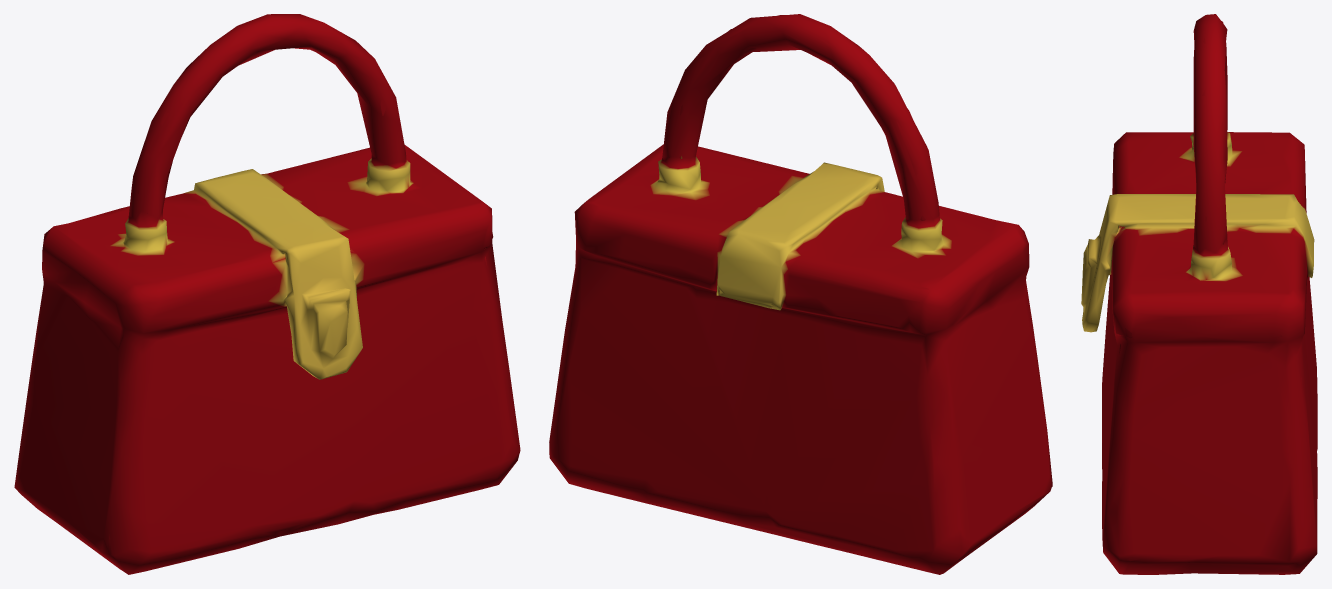
The model's file is gen3d-purse-lod0.glb.
3 renders of one model, left to right at view 1: azimuth 30°, elevation 25°; view 2: azimuth 150°, elevation 25°; view 3: azimuth 270°, elevation 25°, orthographic. The views are drawn at different scales.
Parts seen in each view (by area): view 1: part_0; view 2: part_0; view 3: part_0.
Boxes of the visible parts, x1,y1,x2,y2 form: part_0: [14, 14, 520, 574]; part_0: [549, 14, 1052, 574]; part_0: [1081, 14, 1317, 574].
Size of the model in its own units: 0.9054 by 0.9994 by 0.4611.
